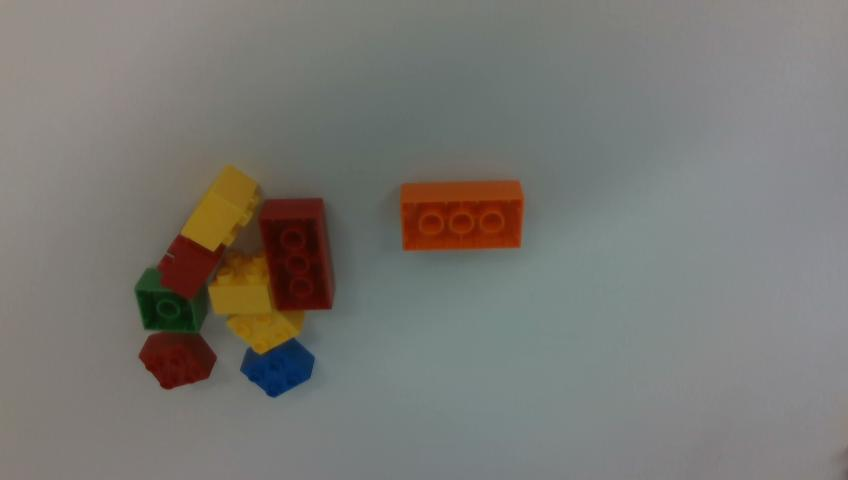2x2_blue: (240, 338, 314, 397)
2x2_green: (135, 267, 207, 332)
2x2_red: (157, 234, 229, 300), (140, 334, 216, 389)
2x2_yellow: (182, 165, 259, 250), (210, 252, 275, 316), (226, 309, 311, 354)
4x2_orange: (401, 181, 523, 250)
4x2_red: (259, 199, 334, 308)
